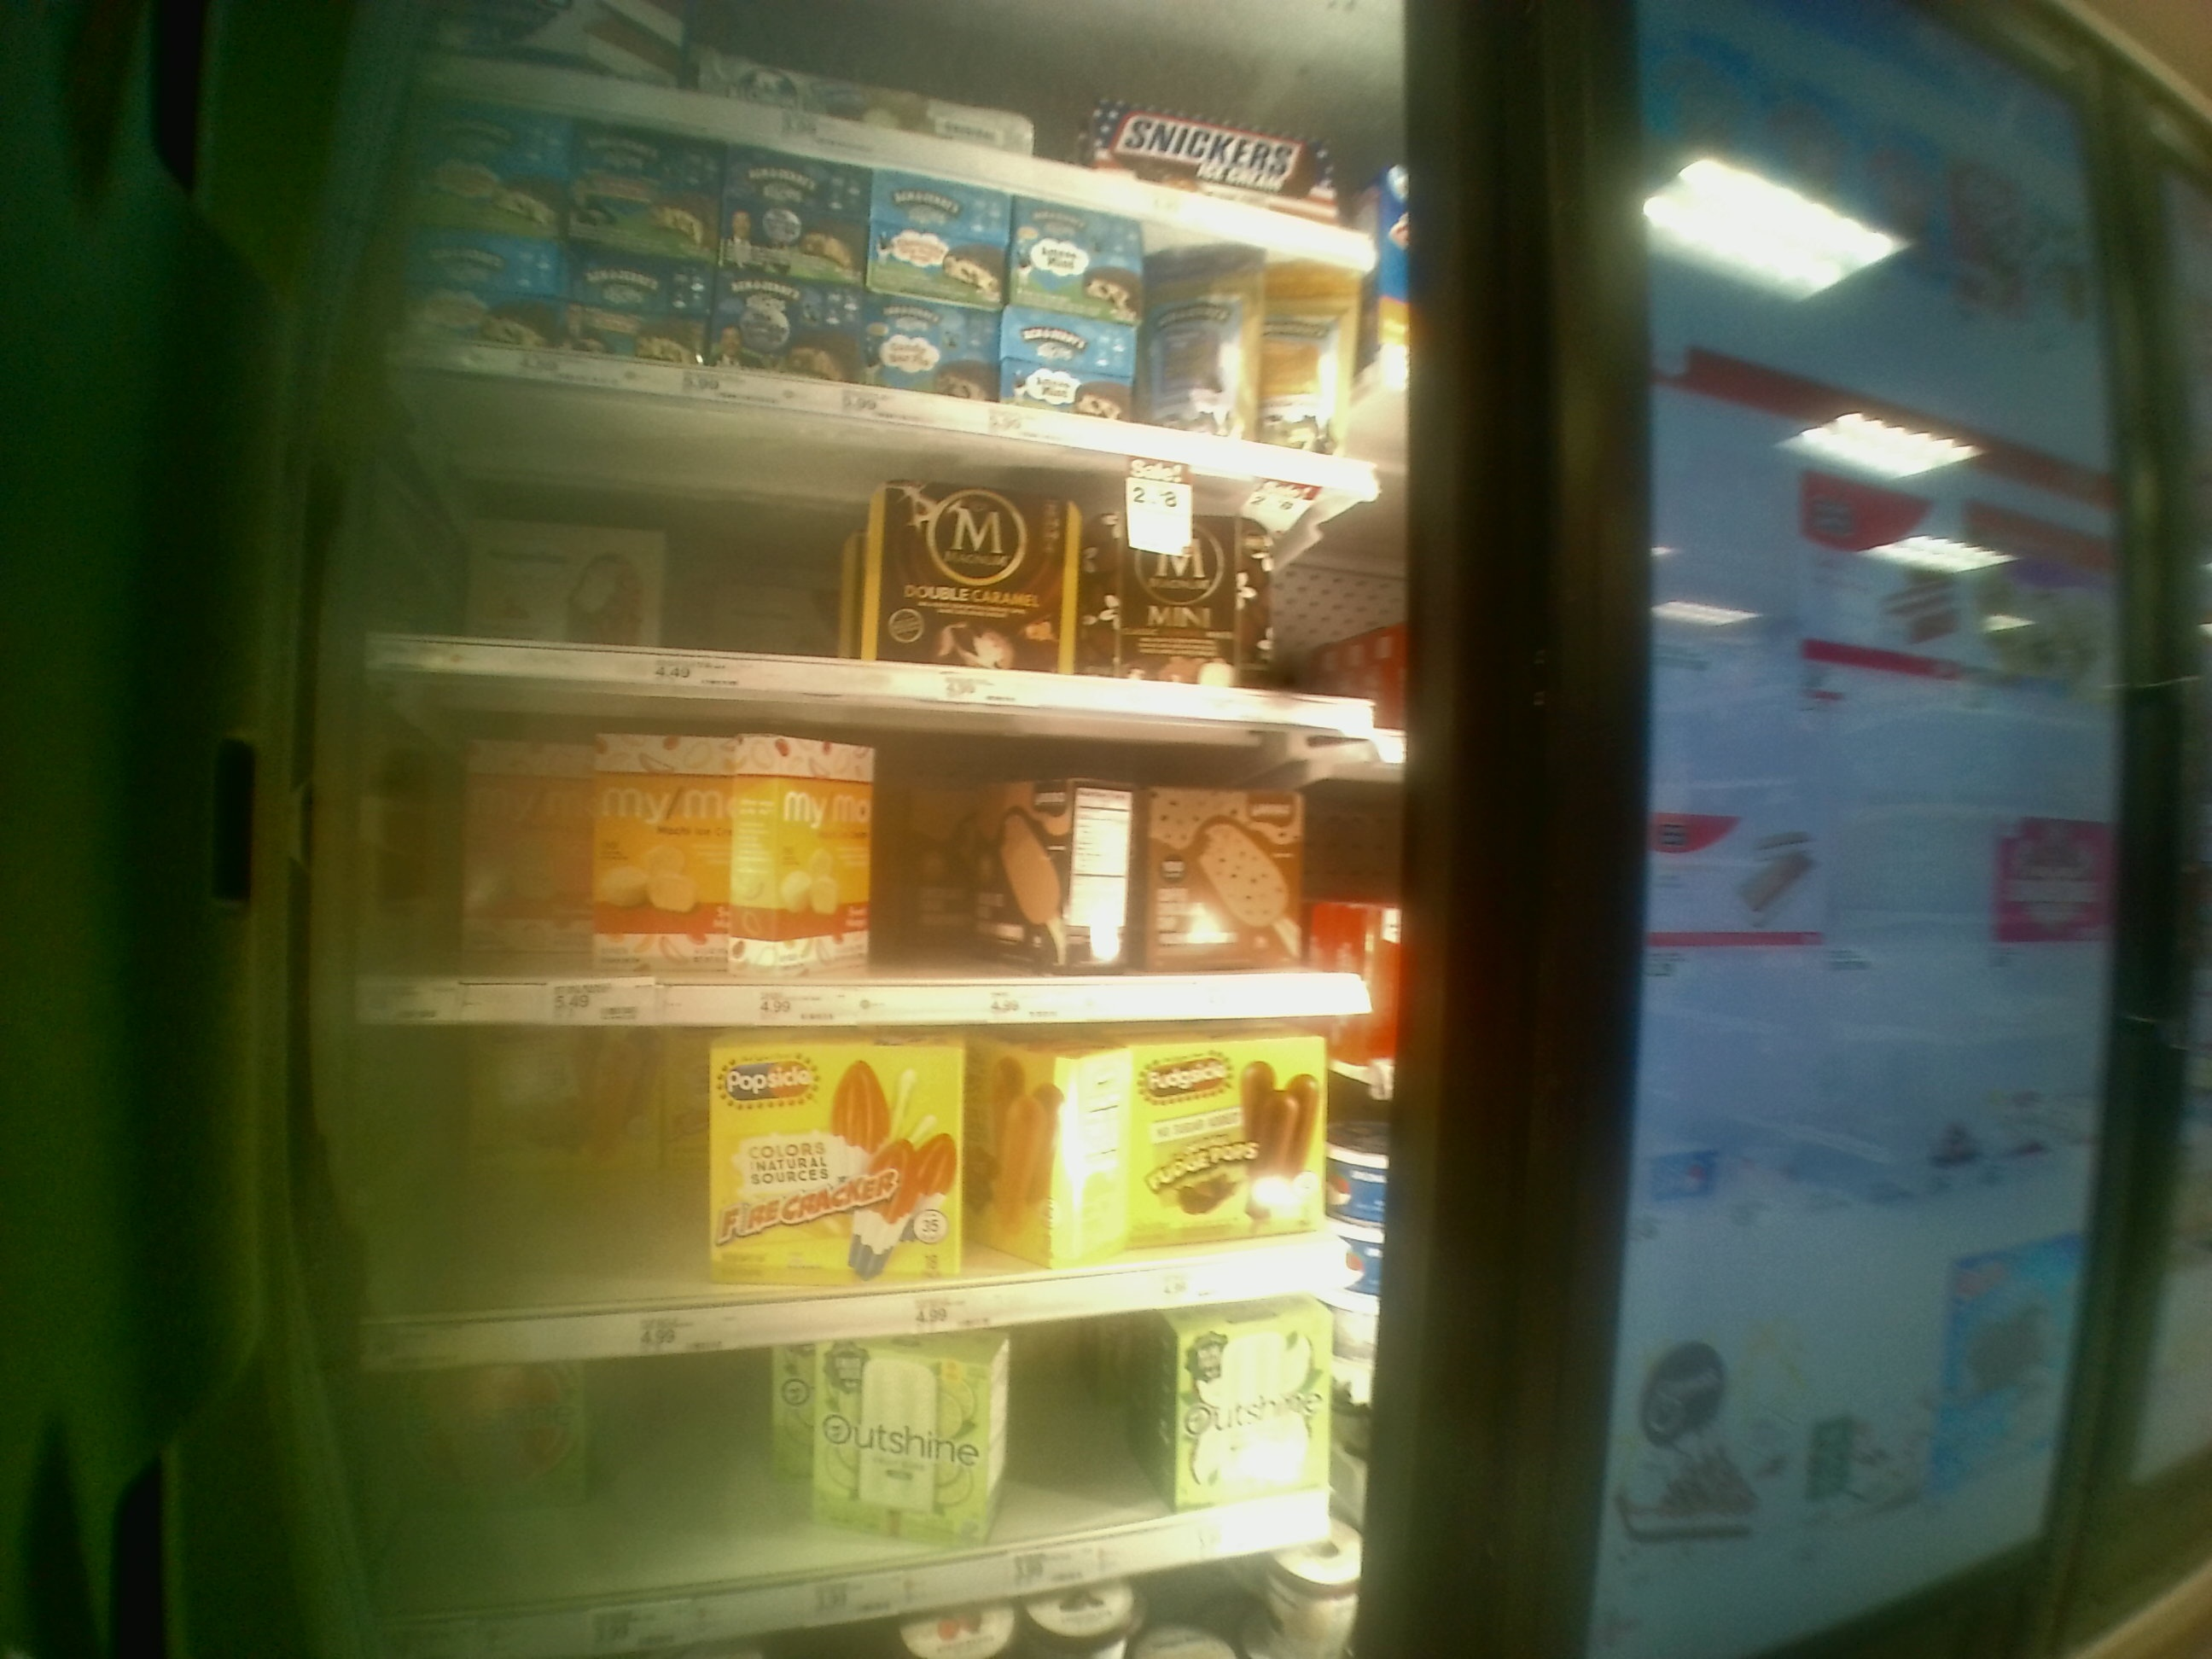shelf: (388, 361, 1388, 732), (355, 673, 1400, 1025), (359, 1028, 1378, 1378)
